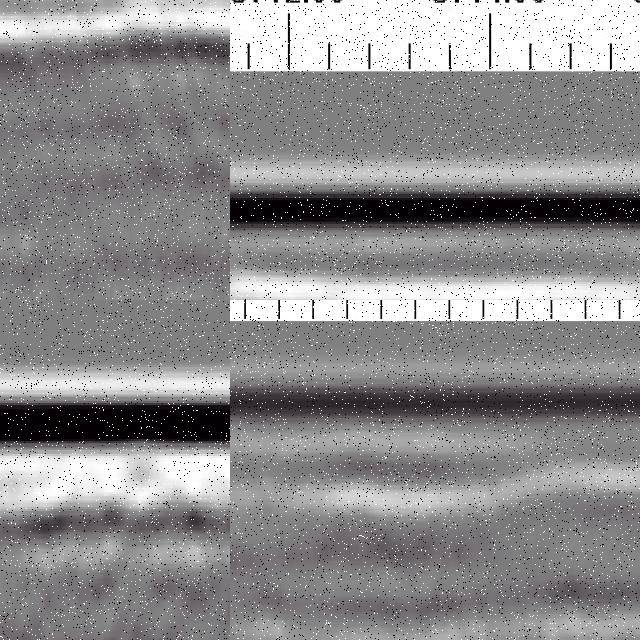loose: (1, 161, 60, 280)
